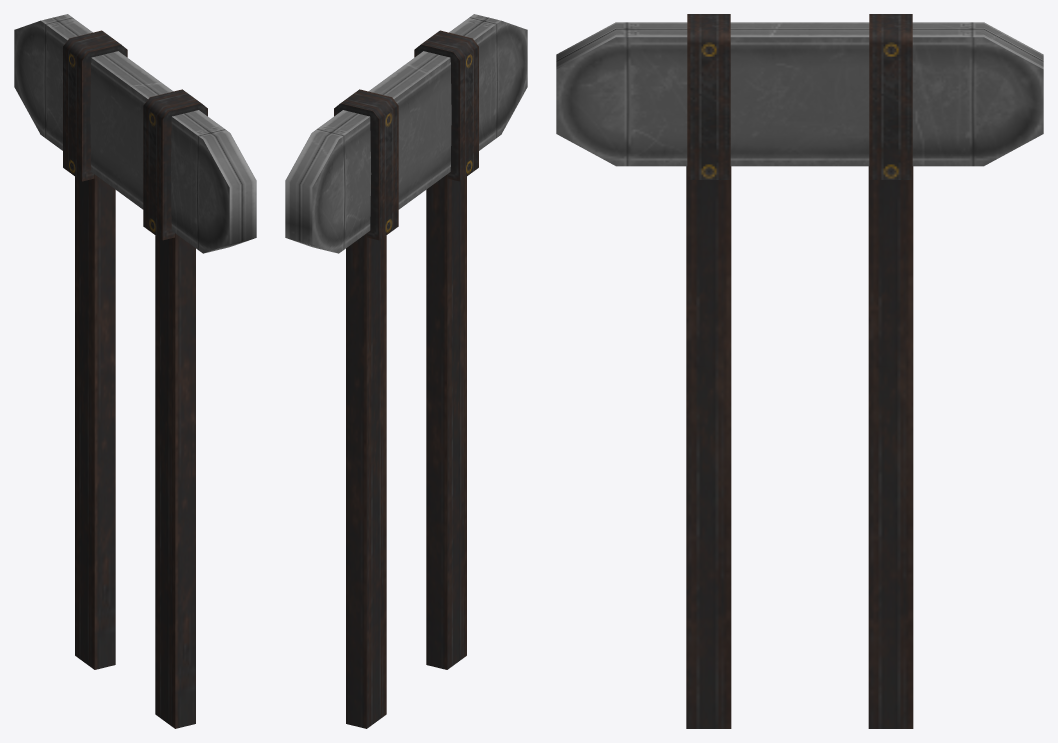
Rendered from PIpe3_Connect1B_L1.fbx.
3 views of the same model, side by side, from view 1: azimuth 30°, elevation 25°; view 2: azimuth 150°, elevation 25°; view 3: azimuth 270°, elevation 25° (orthographic). The views are drawn at different scales.
Parts seen in each view (by area): view 1: PIpe3_Connect1B_L1; view 2: PIpe3_Connect1B_L1; view 3: PIpe3_Connect1B_L1.
Part boxes in pixels (x1,y1,x2,y2): PIpe3_Connect1B_L1: (14, 14, 256, 728); PIpe3_Connect1B_L1: (285, 14, 527, 728); PIpe3_Connect1B_L1: (556, 14, 1043, 728).
Bounding box in the file's own units: 5.45 × 70.68 × 44.59.
